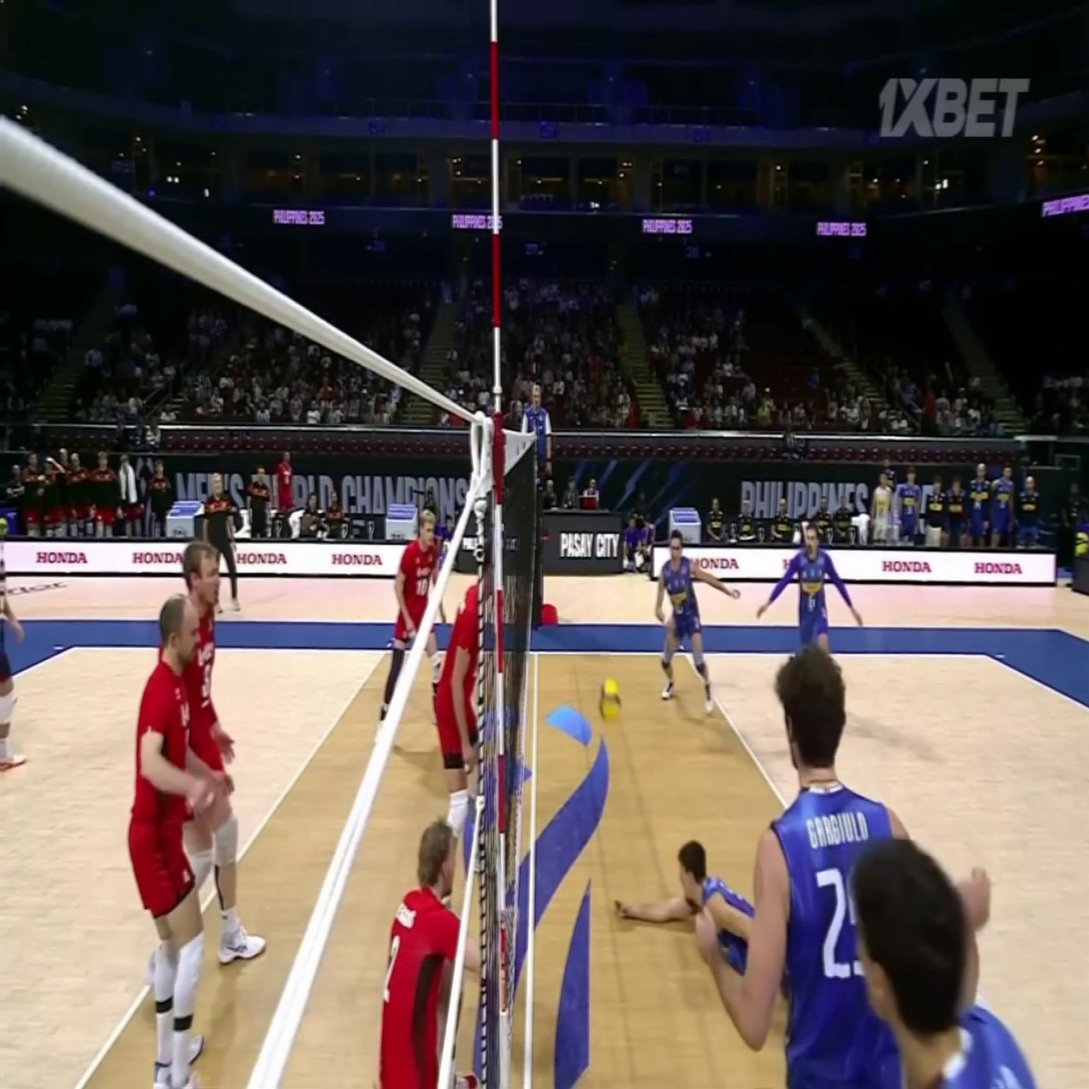ball: (597, 678, 620, 722)
